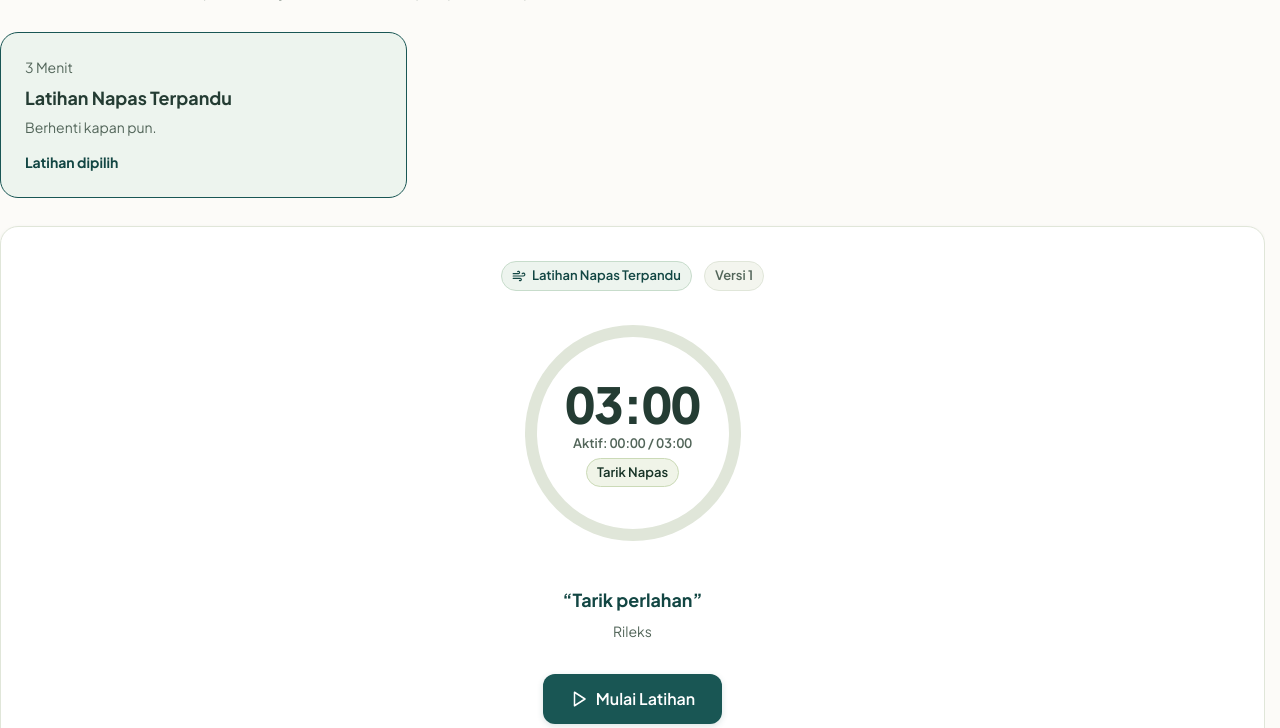
Test: Frontend Komponen & Aturan Privasi PRD › D03 Tenang: tidak auto-start dan mendukung tombol Berhenti tanpa label gagal
Step 1. Click the button "Mulai Latihan" → (632, 699), box left=543, top=674, right=722, bottom=724
(page scrolled)
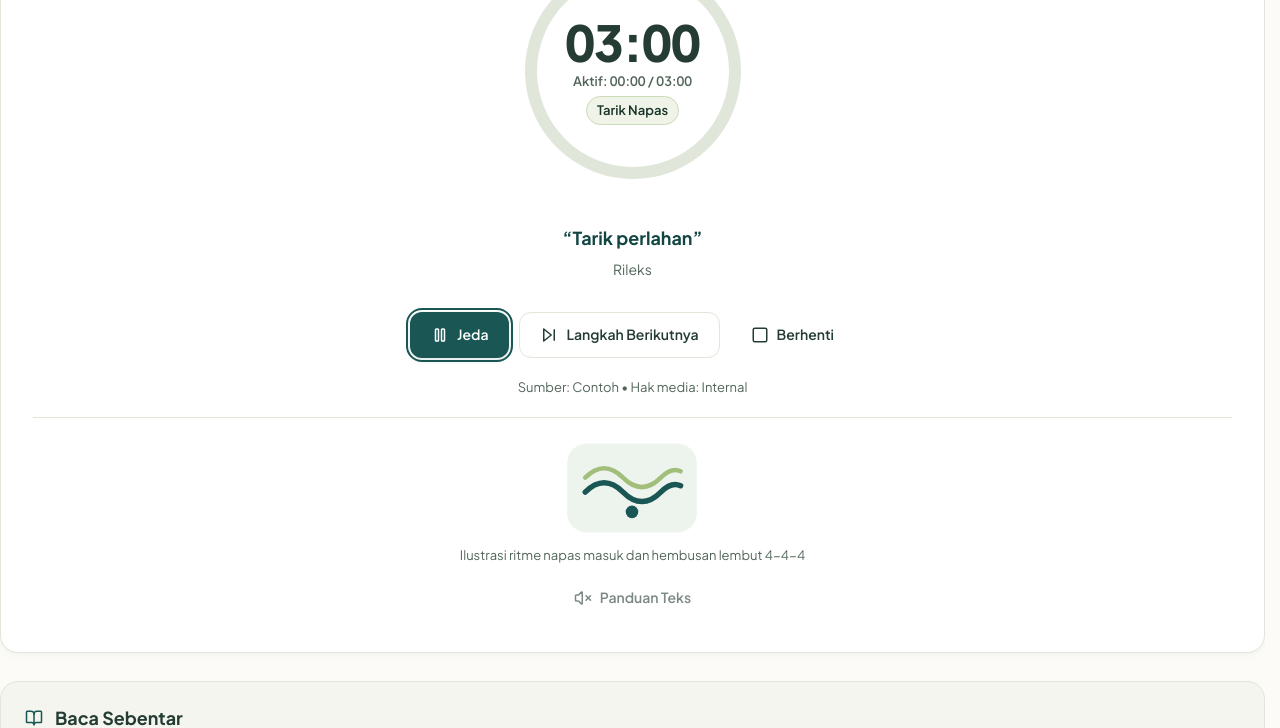
Result: the button "Berhenti" is shown
Step 2. Click the button "Berhenti" → (792, 335), box left=730, top=312, right=855, bottom=358
(page scrolled)
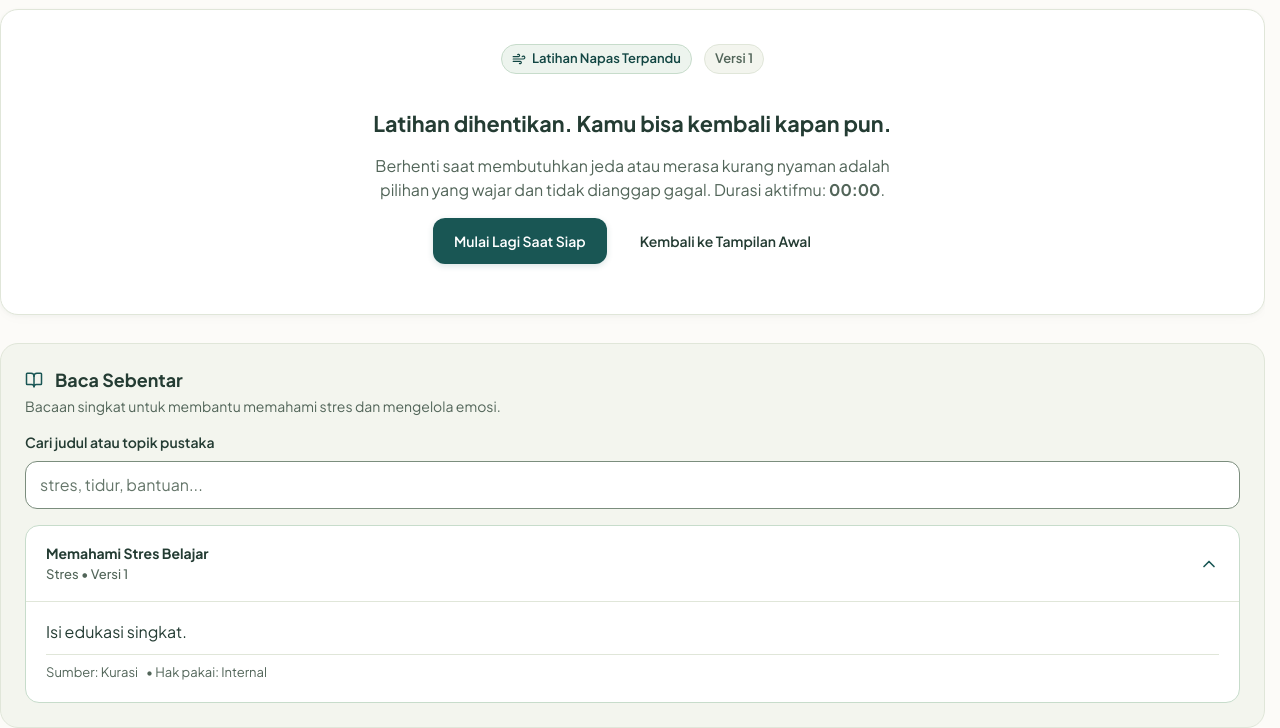
Result: the heading "Latihan dihentikan. Kamu bisa kembali kapan pun." is shown at left=372, top=110, right=892, bottom=138
